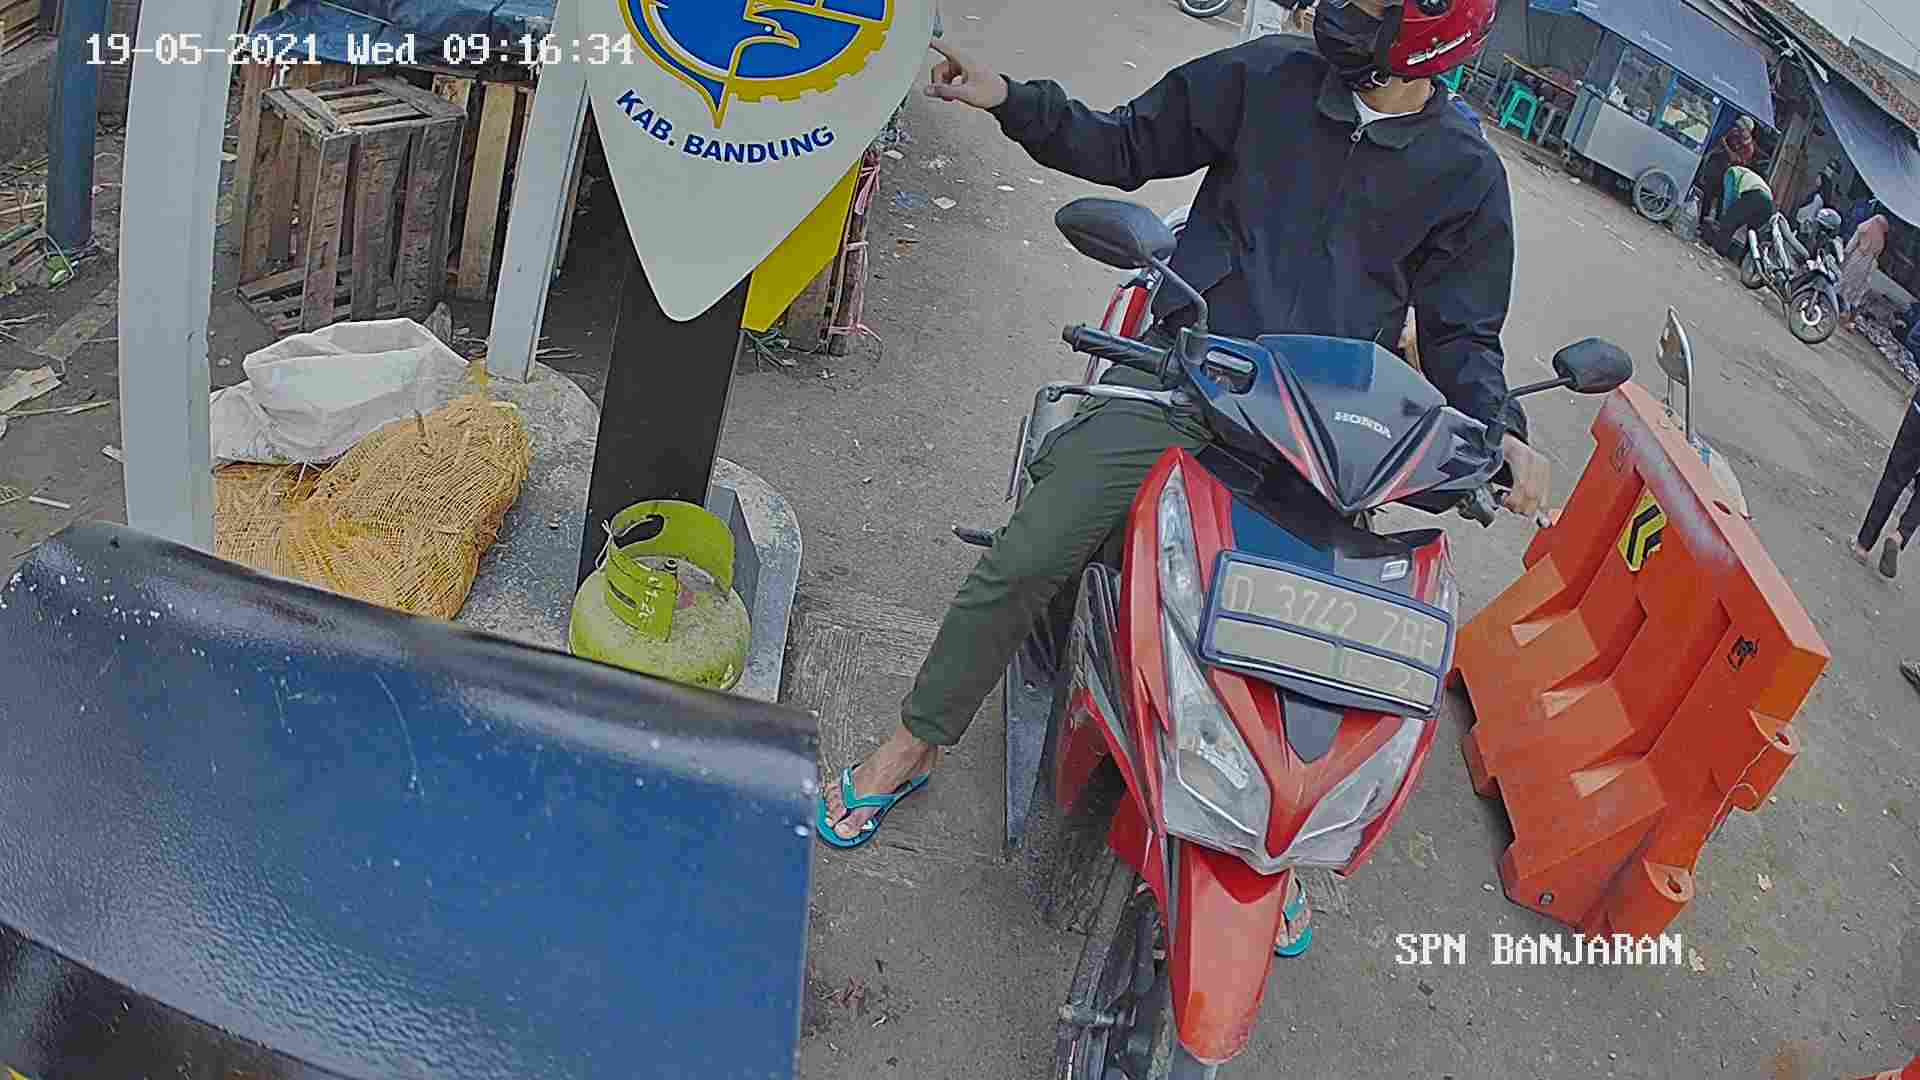motor: (976, 237, 1469, 1080)
